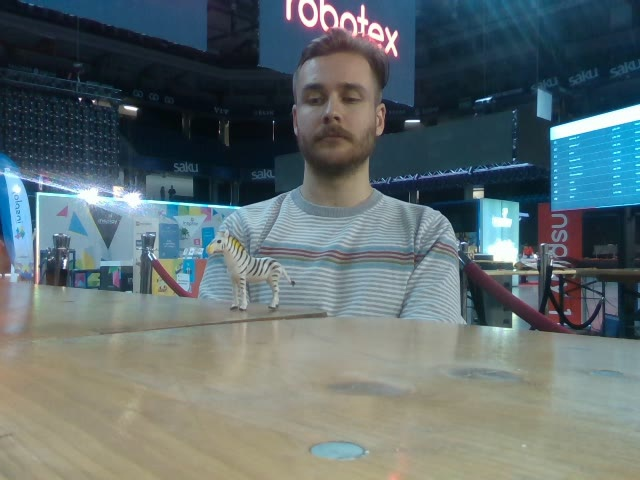toy: (207, 230, 297, 313)
